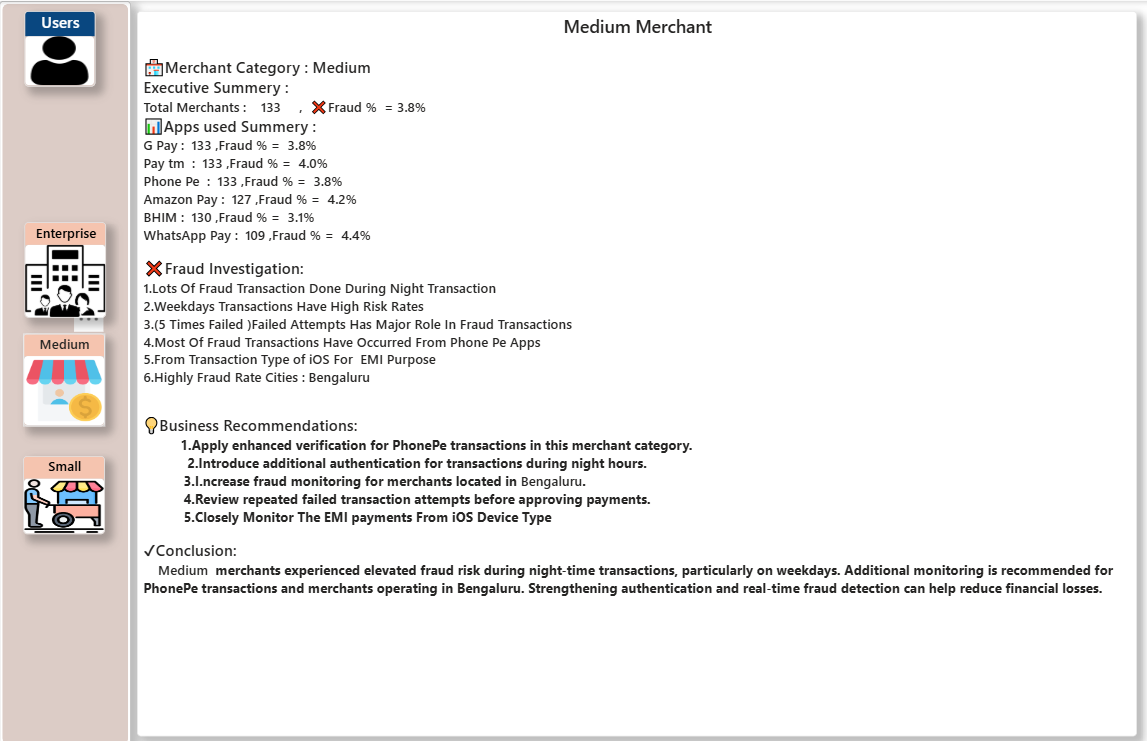

The dashboard page shown, as its layout file describes it:
{"tool":"powerbi","page":{"name":"Merchnats","canvas":[1400,900],"ordinal":5},"visuals":[{"type":"shape","box":[9.5,0,158.2,899.9],"z":1000},{"type":"image","title":"Users","box":[39.8,11.4,85.2,90.9],"z":2000},{"type":"image","title":"Small","box":[37.9,549.3,98.5,94.7],"z":3000},{"type":"image","title":"Medium","box":[37.9,401.5,98.5,111.7],"z":4000},{"type":"image","title":"Enterprise","box":[39.8,267,98.5,115.5],"z":5000},{"type":"textbox","title":"Small Merchants","box":[187.5,11.4,1195.1,865.5],"z":7000}]}

Visuals, with their boxes in screenshot pixels (x1, y1, x2, y2), scaled from the page's 1400x900 canvas onto the 1147x741 screenshot:
shape: <region>8, 0, 137, 740</region>
"Users" image: <region>33, 9, 102, 84</region>
"Small" image: <region>31, 452, 112, 530</region>
"Medium" image: <region>31, 331, 112, 423</region>
"Enterprise" image: <region>33, 220, 113, 315</region>
"Small Merchants" textbox: <region>154, 9, 1133, 722</region>
